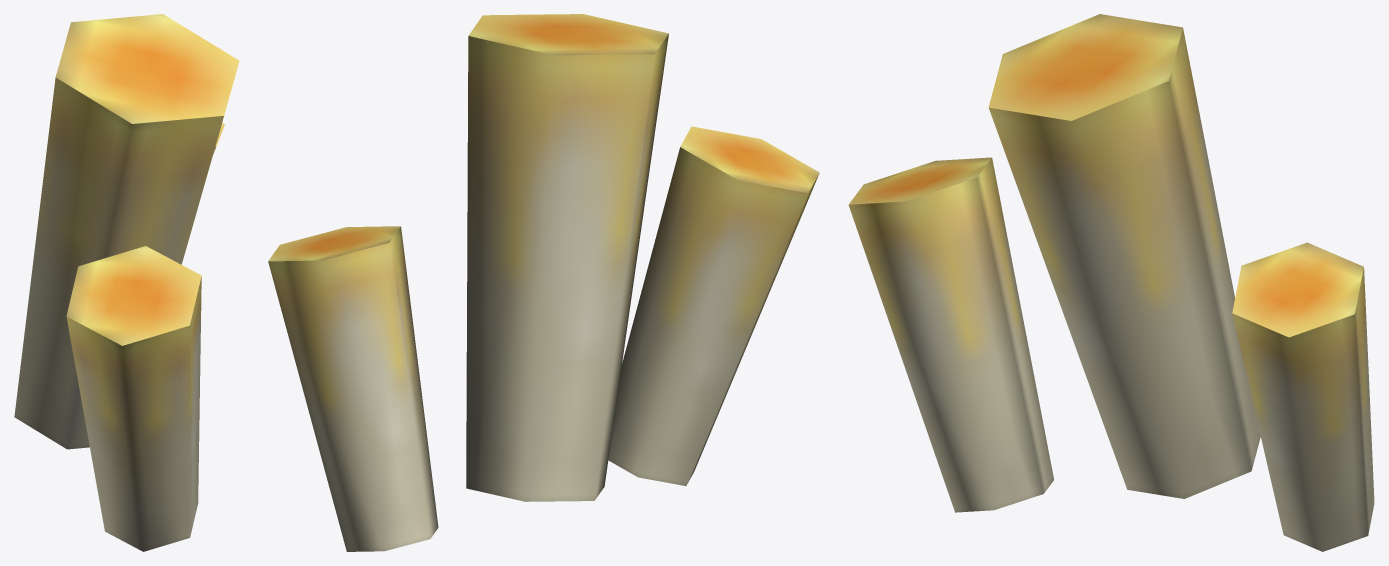
File: Area05_12.fbx
3 views of the same model, side by side, from view 1: azimuth 30°, elevation 25°; view 2: azimuth 150°, elevation 25°; view 3: azimuth 270°, elevation 25° (orthographic). The views are drawn at different scales.
Visible parts, largest first — view 1: Area05_12; view 2: Area05_12; view 3: Area05_12.
Boxes of the visible parts, x1,y1,x2,y2 form: Area05_12: (14,14,239,551); Area05_12: (268,14,819,551); Area05_12: (848,14,1374,551).
Bounding box in the file's own units: 36.14 × 48.18 × 47.27.
